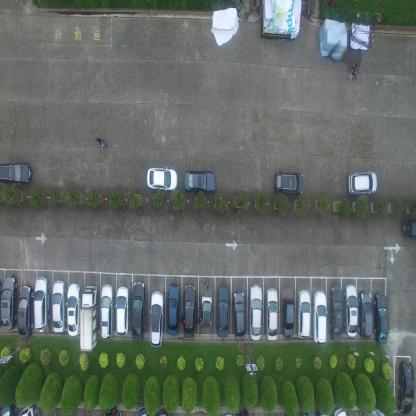car: (78, 284, 98, 352), (0, 273, 18, 333), (396, 360, 415, 415), (145, 164, 178, 193), (0, 160, 33, 189), (131, 280, 146, 343), (34, 275, 50, 333), (312, 290, 328, 347), (347, 168, 378, 197), (17, 284, 33, 340), (183, 168, 216, 195), (149, 290, 164, 349), (343, 281, 358, 338), (248, 283, 262, 342), (182, 284, 196, 342), (328, 283, 342, 341), (100, 282, 114, 340), (66, 282, 81, 336), (273, 170, 304, 196), (52, 278, 66, 334), (358, 289, 373, 340), (374, 292, 388, 346), (166, 283, 180, 336), (232, 289, 246, 342), (216, 284, 229, 340), (265, 286, 278, 342), (296, 289, 310, 340), (115, 286, 129, 336), (281, 296, 294, 340), (400, 215, 416, 241), (200, 296, 212, 330), (0, 398, 17, 416), (19, 401, 38, 415), (102, 406, 120, 416), (317, 404, 332, 415), (136, 405, 151, 415), (334, 405, 348, 415), (302, 405, 314, 415), (156, 408, 170, 415)
